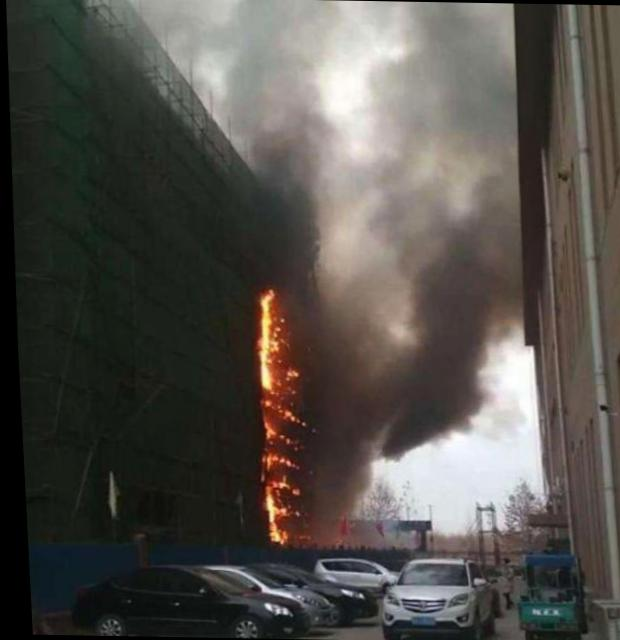fire: (248, 281, 307, 545)
